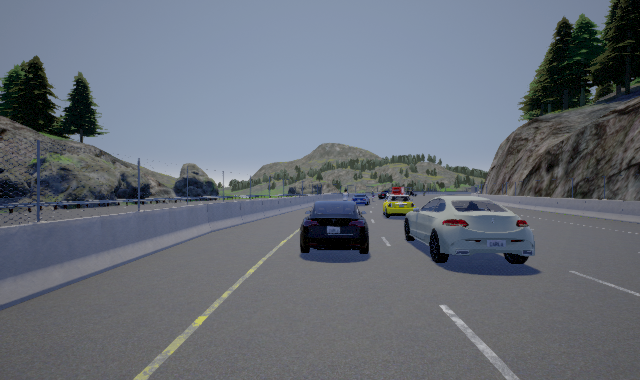vehicle: (404, 187, 535, 263), (300, 194, 370, 254), (382, 192, 416, 220)
